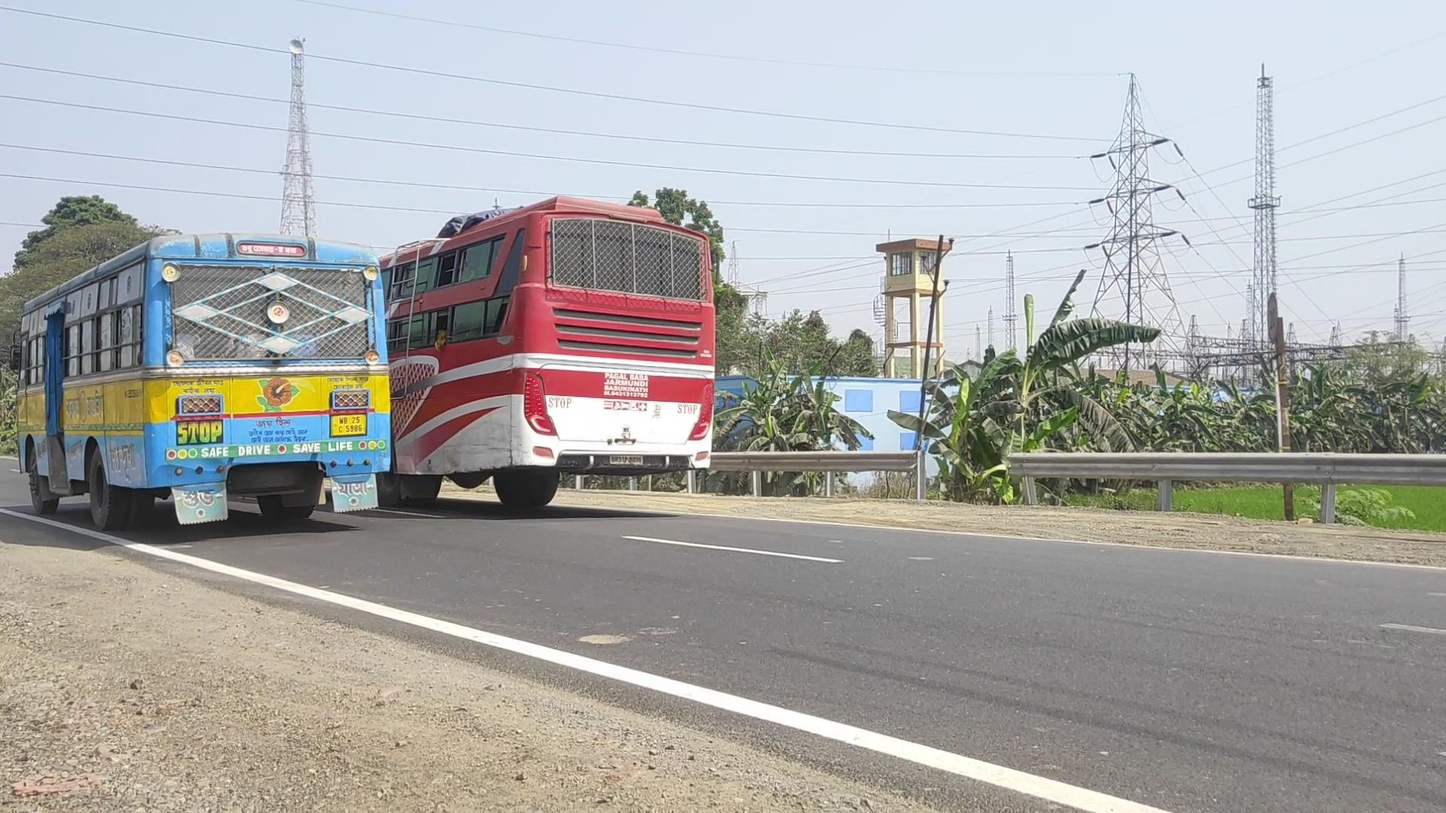Bus: (9, 232, 391, 532), (380, 195, 715, 510)
